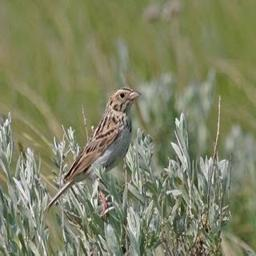Sparrow: (43, 86, 142, 222)
